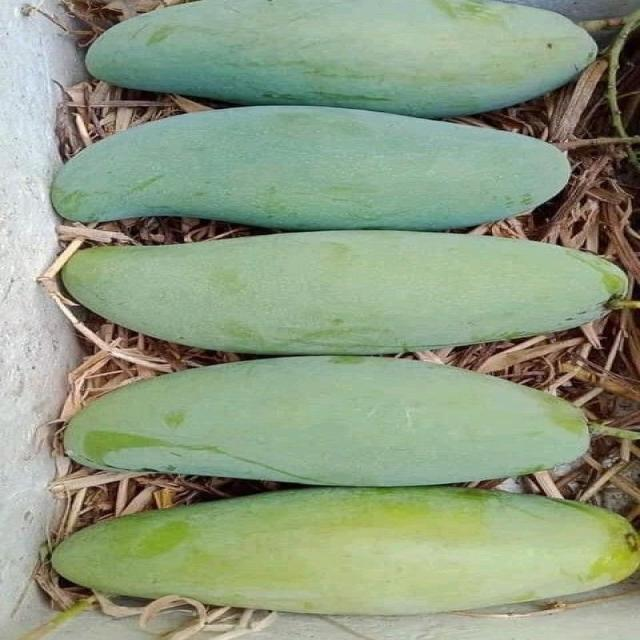mango: (52, 488, 639, 615), (63, 231, 627, 354), (64, 356, 587, 486), (52, 107, 569, 230), (87, 0, 597, 117)
